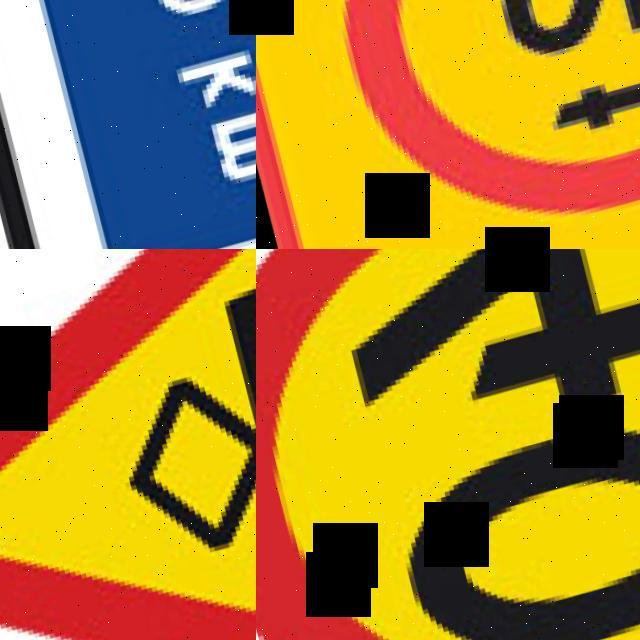146: (0, 249, 256, 640)
55: (256, 249, 640, 640)
82: (256, 0, 640, 249)
tunnel in 2 km: (0, 0, 256, 249)
